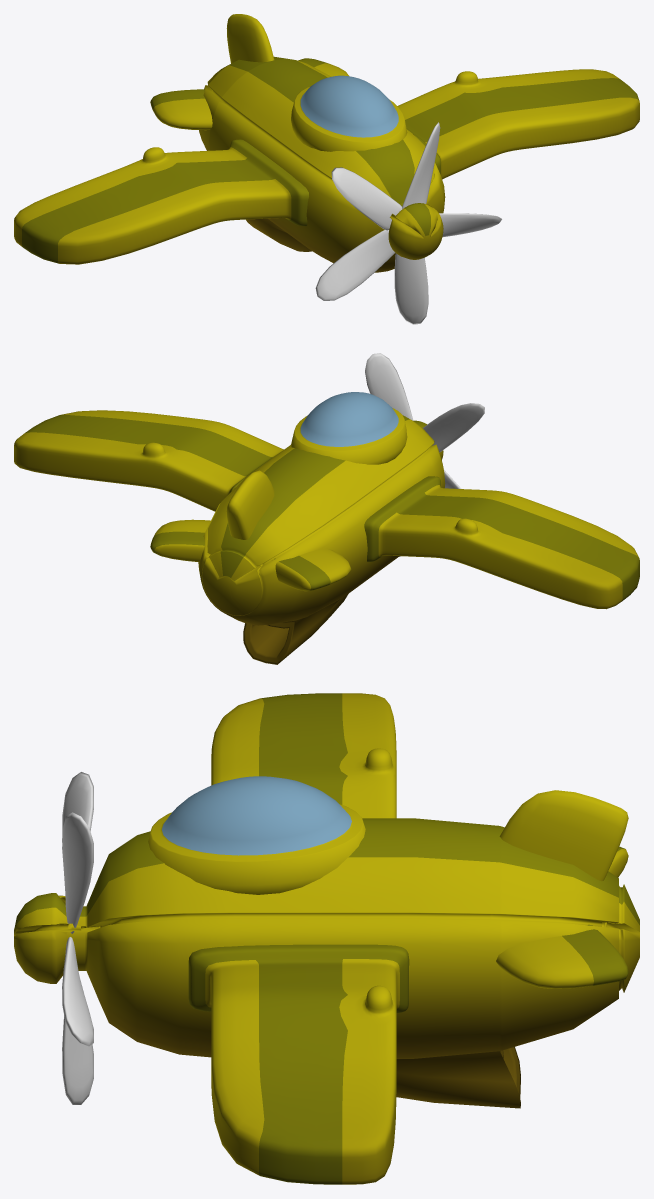
3 renders of one model, top to bottom at view 1: azimuth 30°, elevation 25°; view 2: azimuth 150°, elevation 25°; view 3: azimuth 270°, elevation 25°, orthographic. The views are drawn at different scales.
Visible parts, largest first — view 1: Sphere.006, Cube.016; view 2: Sphere.006, Cube.016; view 3: Sphere.006, Cube.016.
Part boxes in pixels (x1,y1,x2,y2): Sphere.006: [14, 14, 639, 272]; Cube.016: [315, 122, 501, 324]; Sphere.006: [14, 392, 639, 664]; Cube.016: [365, 353, 484, 556]; Sphere.006: [14, 693, 639, 1184]; Cube.016: [62, 772, 93, 1104].
Bounding box in the file's own units: 899 × 291 × 519.
